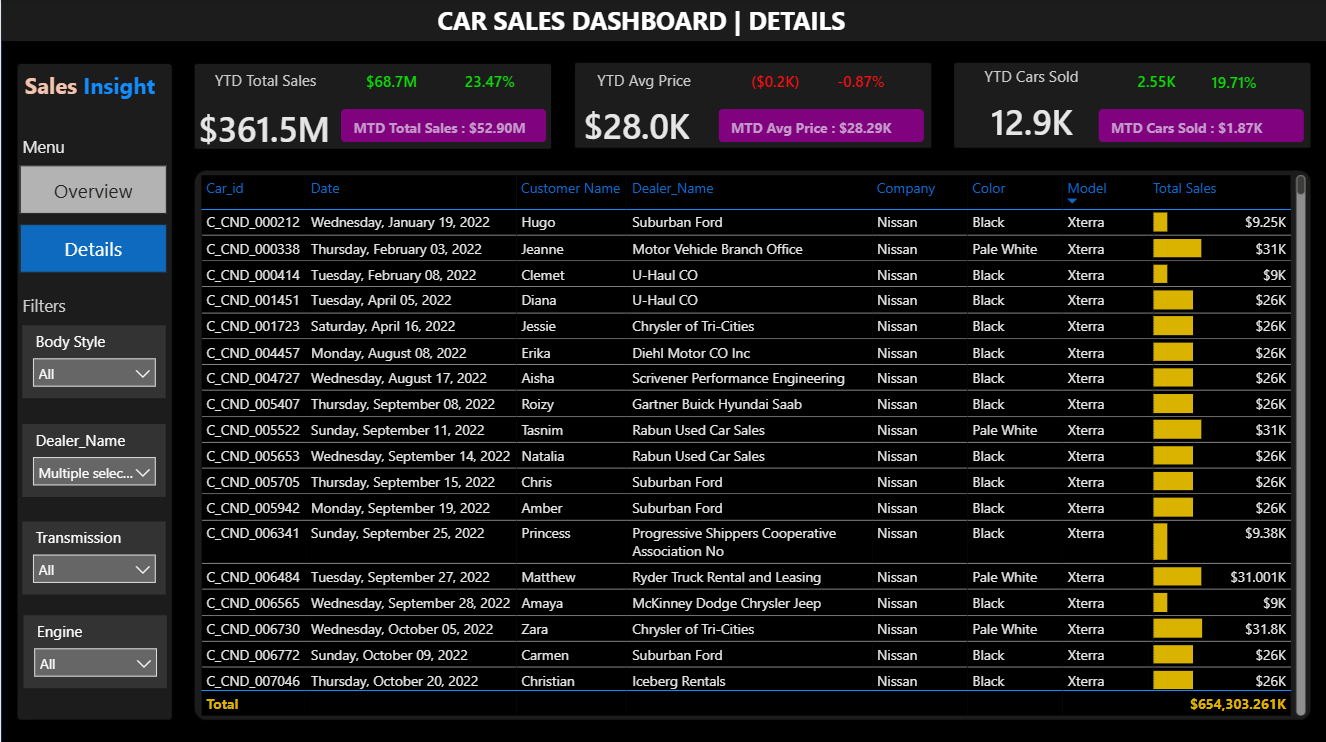

What the dashboard file says about the page in this screenshot:
{"tool":"powerbi","page":{"name":"Details","canvas":[1280,720],"ordinal":1},"visuals":[{"type":"cardVisual","title":"YTD Total Sales","fields":{"Data":["car_data.YTD Total Sales"]},"box":[161.2,67.5,187.5,90],"z":0},{"type":"cardVisual","fields":{"Data":["car_data.Sales Difference"]},"box":[323.8,50,113.8,56.2],"z":1000},{"type":"cardVisual","fields":{"Data":["car_data.YoY Sales Growth"]},"box":[418.8,50,113.8,56.2],"z":2000},{"type":"cardVisual","fields":{"Data":["car_data.MTD KPI"]},"box":[323.8,101,208.8,42.5],"z":3000},{"type":"cardVisual","title":"YTD Avg Price","fields":{"Data":["car_data.YTD Avg Price"]},"box":[532.9,67.1,175,85],"z":4000},{"type":"cardVisual","fields":{"Data":["car_data.Avg Price Diff"]},"box":[675,50,146.2,56.2],"z":5000},{"type":"cardVisual","fields":{"Data":["car_data.YoY Avg Price Growth"]},"box":[777.5,50,106.2,56.2],"z":6000},{"type":"cardVisual","fields":{"Data":["car_data.MTD Avg Price KPI"]},"box":[687.5,101,208.8,42.5],"z":7000},{"type":"cardVisual","title":"YTD Cars Sold","fields":{"Data":["car_data.YTD Car Sold"]},"box":[907.5,63.8,175,85],"z":8000},{"type":"cardVisual","fields":{"Data":["car_data.Cars sold Diff"]},"box":[1042.5,50,146.2,56.2],"z":9000},{"type":"cardVisual","fields":{"Data":["car_data.YoY Car Sold Growth"]},"box":[1100,51.2,180,56.2],"z":10000},{"type":"cardVisual","fields":{"Data":["car_data.MTD Cars Sold KPI"]},"box":[1055,101.2,208.8,42.5],"z":11000},{"type":"textbox","box":[416.2,0,555,50],"z":12000},{"type":"slicer","fields":{"Values":["car_data.Body Style"]},"box":[20,315,138.8,70],"z":13000},{"type":"slicer","fields":{"Values":["car_data.Dealer_Name"]},"box":[20,410,138.8,70],"z":14000},{"type":"slicer","fields":{"Values":["car_data.Transmission"]},"box":[20,503.8,138.8,70],"z":15000},{"type":"slicer","fields":{"Values":["car_data.Engine"]},"box":[21.2,595,138.8,70],"z":16000},{"type":"textbox","box":[16.2,280,150,32.5],"z":17000},{"type":"tableEx","fields":{"Values":["car_data.Car_id","car_data.Date","car_data.Customer Name","car_data.Dealer_Name","car_data.Company","car_data.Color","car_data.Model","Sum(car_data.Price ($))"]},"box":[187.1,165.7,1077.1,531.4],"z":18000},{"type":"textbox","box":[11.4,64.3,150,55.7],"z":19000},{"type":"textbox","box":[15.7,127.1,128.6,32.9],"z":20000},{"type":"pageNavigator","box":[18.6,160,142.9,105.7],"z":21000}]}

Visuals, with their boxes in screenshot pixels (x1, y1, x2, y2), scaled from the page's 1280x720 canvas onto the 1326x742 screenshot:
"YTD Total Sales" cardVisual: (167, 70, 361, 162)
cardVisual - car_data.Sales Difference: (335, 52, 453, 109)
cardVisual - car_data.YoY Sales Growth: (434, 52, 552, 109)
cardVisual - car_data.MTD KPI: (335, 104, 552, 148)
"YTD Avg Price" cardVisual: (552, 69, 733, 157)
cardVisual - car_data.Avg Price Diff: (699, 52, 851, 109)
cardVisual - car_data.YoY Avg Price Growth: (805, 52, 915, 109)
cardVisual - car_data.MTD Avg Price KPI: (712, 104, 929, 148)
"YTD Cars Sold" cardVisual: (940, 66, 1121, 153)
cardVisual - car_data.Cars sold Diff: (1080, 52, 1231, 109)
cardVisual - car_data.YoY Car Sold Growth: (1140, 53, 1325, 111)
cardVisual - car_data.MTD Cars Sold KPI: (1093, 104, 1309, 148)
textbox: (431, 0, 1006, 52)
slicer - car_data.Body Style: (21, 325, 165, 397)
slicer - car_data.Dealer_Name: (21, 423, 165, 495)
slicer - car_data.Transmission: (21, 519, 165, 591)
slicer - car_data.Engine: (22, 613, 166, 685)
textbox: (17, 289, 172, 322)
tableEx - car_data.Car_id x car_data.Date: (194, 171, 1310, 718)
textbox: (12, 66, 167, 124)
textbox: (16, 131, 149, 165)
pageNavigator: (19, 165, 167, 274)
